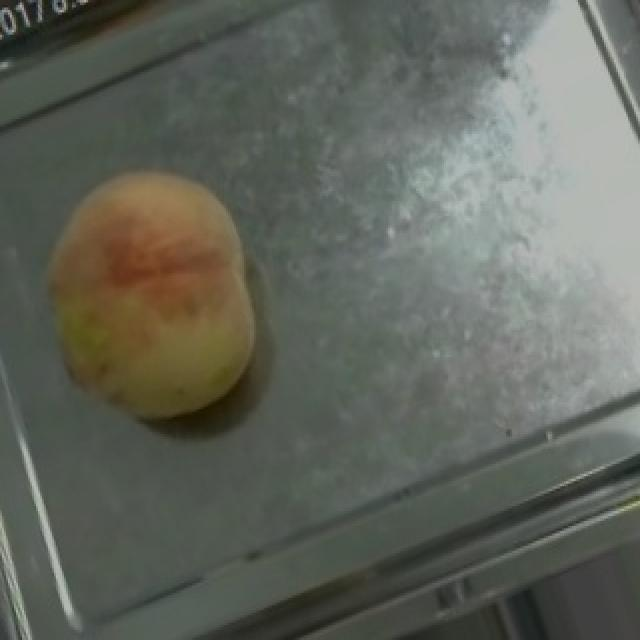Fruit: (0, 124, 306, 456)
